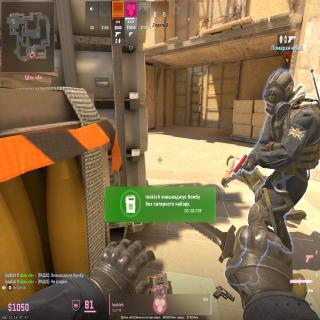CT-Body: (225, 70, 320, 284)
CT-Head: (262, 70, 294, 118)
